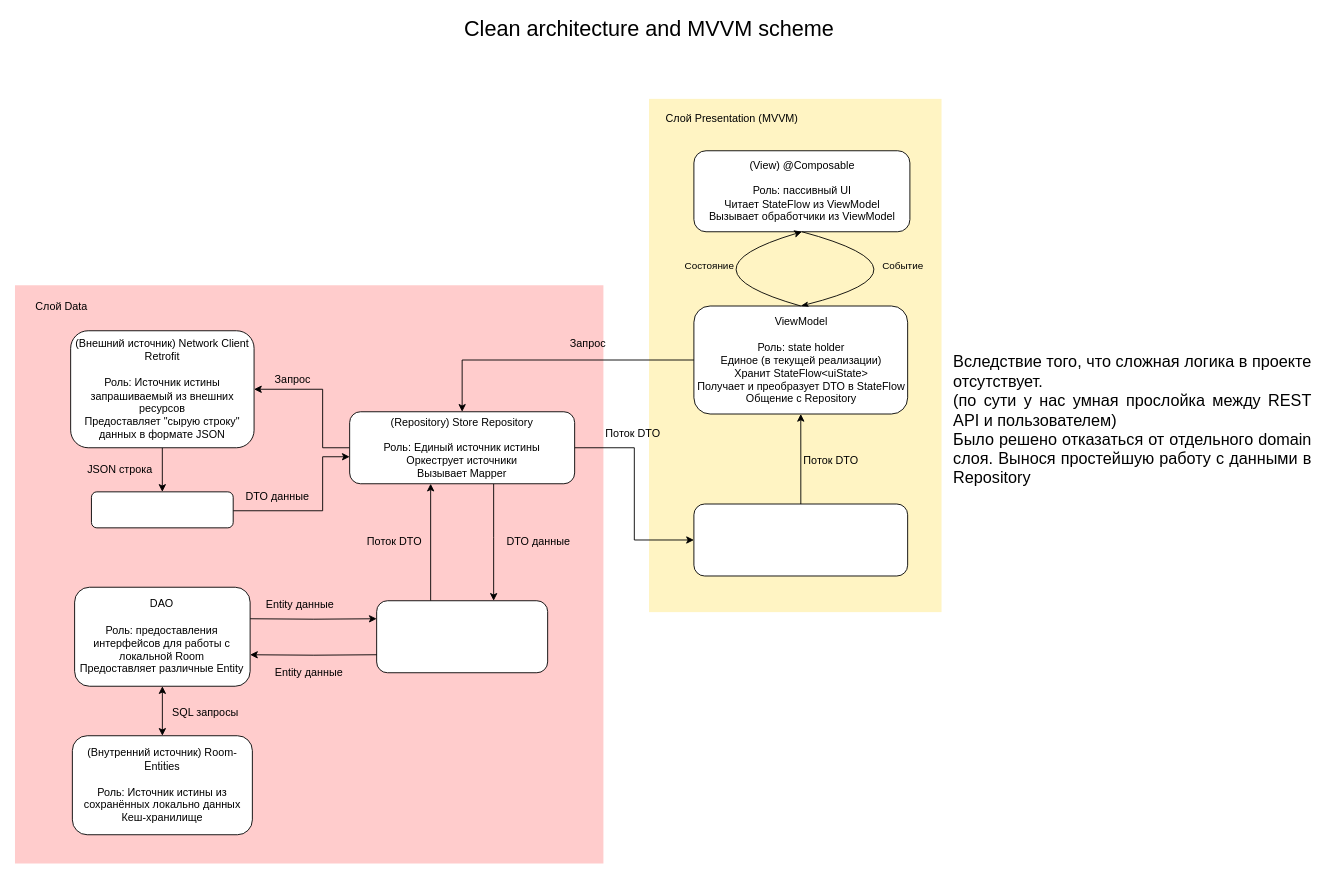
The diagram is 1328 pixels wide and 878 high, and some of its shapes have lost their labels. Each missing label, with the centre of its shape:
"(Model) DTO Роль: Иммутабельный источник истины Не имеет никакой логики" goes at point 800,539.
"Mappers Роль: трансформация данных из Entity в DTO и обратно" goes at point 462,636.
"Десериализатор DTO" goes at point 162,509.
